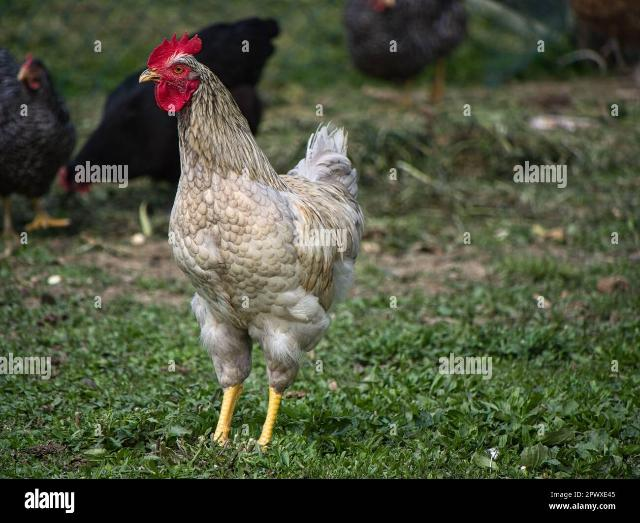Chicken: (142, 32, 352, 454)
